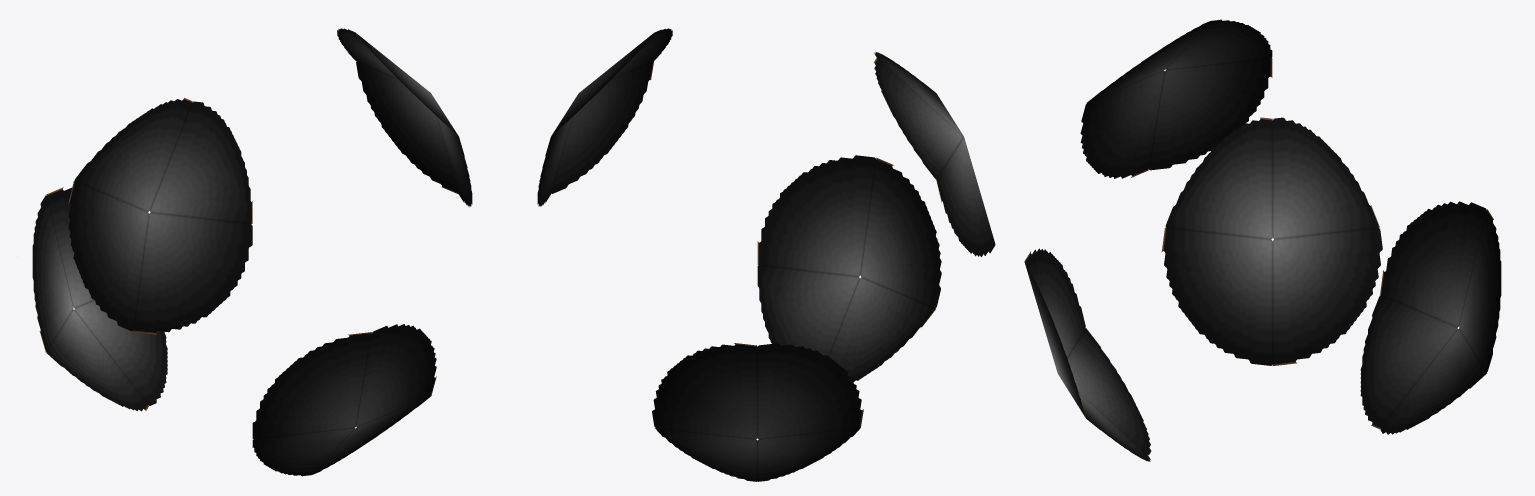
The picture shows the model from 3 angles, left to right: view 1: azimuth 30°, elevation 25°; view 2: azimuth 150°, elevation 25°; view 3: azimuth 270°, elevation 25°; orthographic projection. The views are drawn at different scales.
Visible parts, largest first — view 1: T1L1M001_29; view 2: T1L1M001_29; view 3: T1L1M001_29.
Boxes of the visible parts, <box> form: T1L1M001_29: <box>32,28,472,476</box>; T1L1M001_29: <box>537,28,995,481</box>; T1L1M001_29: <box>1024,19,1501,461</box>.
Size of the model in its own units: 0.7998 by 0.6924 by 0.7998.
Materials: 1 (1 with a texture image).
